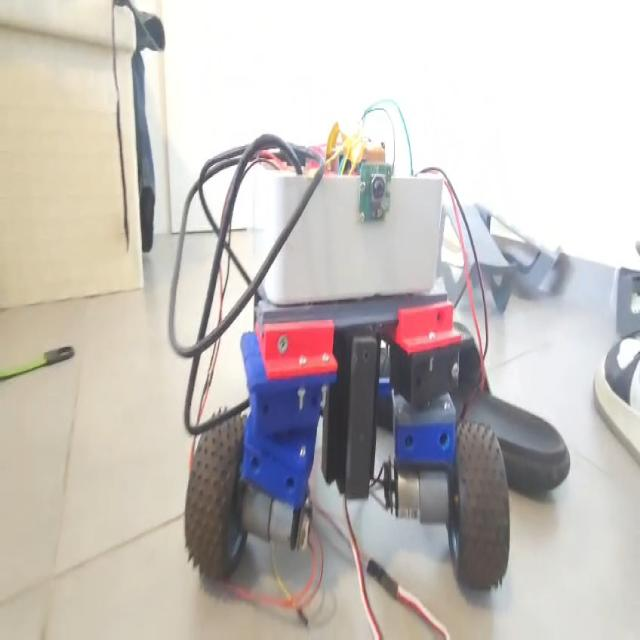Robot: (163, 91, 515, 640)
